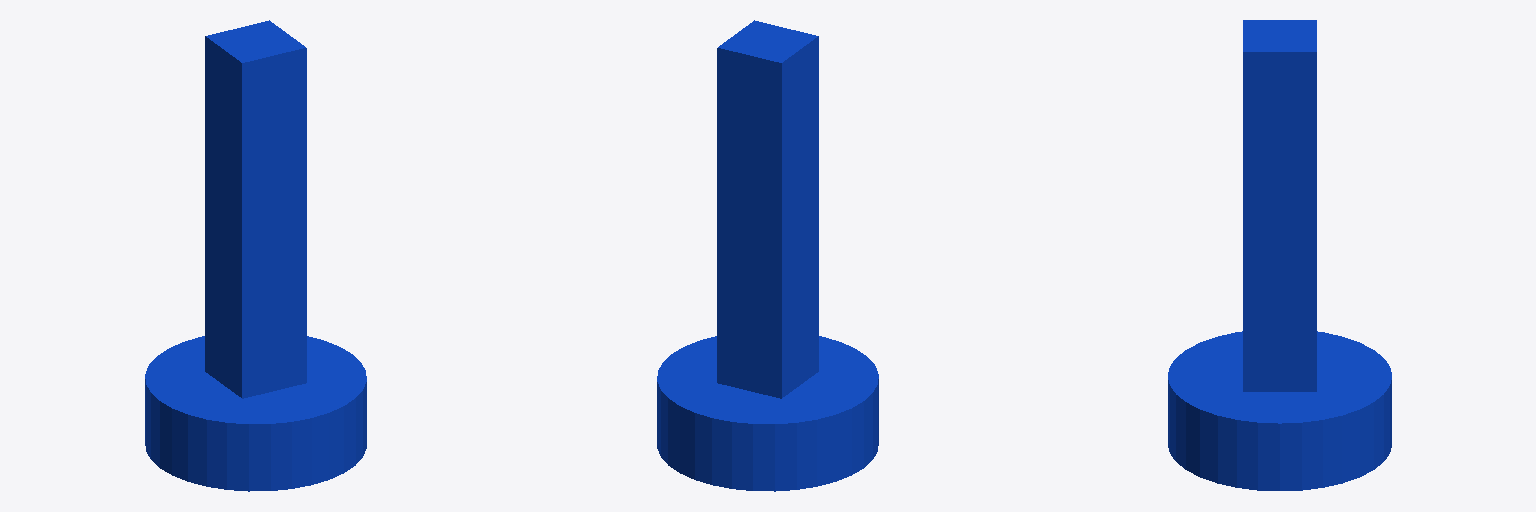
The robot description file, URDF, robot "robotics_ii_student_robot":
<?xml version="1.0"?>
<robot name="robotics_ii_student_robot">
  <material name="student_blue">
    <color rgba="0.10 0.35 0.85 1.0"/>
  </material>

  <link name="world"/>

  <link name="base_link">
    <visual>
      <geometry><cylinder radius="0.12" length="0.08"/></geometry>
      <material name="student_blue"/>
    </visual>
    <collision>
      <geometry><cylinder radius="0.12" length="0.08"/></geometry>
    </collision>
    <inertial>
      <mass value="2.0"/>
      <inertia ixx="0.008" ixy="0" ixz="0"
               iyy="0.008" iyz="0" izz="0.014"/>
    </inertial>
  </link>

  <joint name="world_to_base" type="fixed">
    <parent link="world"/>
    <child link="base_link"/>
    <origin xyz="0 0 0.04" rpy="0 0 0"/>
  </joint>

  <link name="link_1">
    <visual>
      <origin xyz="0 0 0.20" rpy="0 0 0"/>
      <geometry><box size="0.08 0.08 0.40"/></geometry>
      <material name="student_blue"/>
    </visual>
    <collision>
      <origin xyz="0 0 0.20" rpy="0 0 0"/>
      <geometry><box size="0.08 0.08 0.40"/></geometry>
    </collision>
    <inertial>
      <origin xyz="0 0 0.20" rpy="0 0 0"/>
      <mass value="1.0"/>
      <inertia ixx="0.0139" ixy="0" ixz="0"
               iyy="0.0139" iyz="0" izz="0.0011"/>
    </inertial>
  </link>

  <joint name="joint_1" type="revolute">
    <parent link="base_link"/>
    <child link="link_1"/>
    <origin xyz="0 0 0.04" rpy="0 0 0"/>
    <axis xyz="0 0 1"/>
    <limit lower="-2.8" upper="2.8" effort="20" velocity="1.5"/>
  </joint>

  <!-- TODO: add link_2, revolute joint_2 and a fixed tool0 frame.
       Every moving link must include visual, collision and inertial elements.
       Keep the file valid after each small edit. -->
</robot>

--- Facts derived from the render (not from the file) ---
Views: 3 orthographic renders of the robot side by side, from view 1: azimuth 30°, elevation 25°; view 2: azimuth 150°, elevation 25°; view 3: azimuth 270°, elevation 25°.
Robot: robotics_ii_student_robot — 3 links, 2 joints (1 revolute, 1 fixed); root link world; default pose: every joint at zero.
Links seen in each view (by area): view 1: link_1, base_link; view 2: link_1, base_link; view 3: link_1, base_link.
Boxes of the visible links, box(x1,y1,x2,y2) form: link_1: box(205, 20, 306, 398); base_link: box(145, 336, 366, 491); link_1: box(717, 20, 818, 398); base_link: box(657, 336, 878, 491); link_1: box(1243, 20, 1316, 391); base_link: box(1168, 331, 1391, 490).
Size in the robot's own frame: 0.24 by 0.24 by 0.48 metres.
Geometry: primitives only (box / cylinder / sphere), no mesh files.
